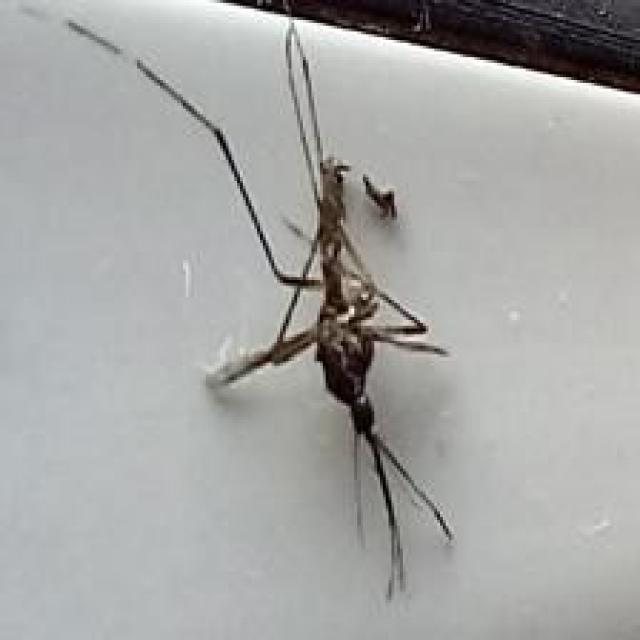Aedes albopictus: (67, 3, 459, 600)
